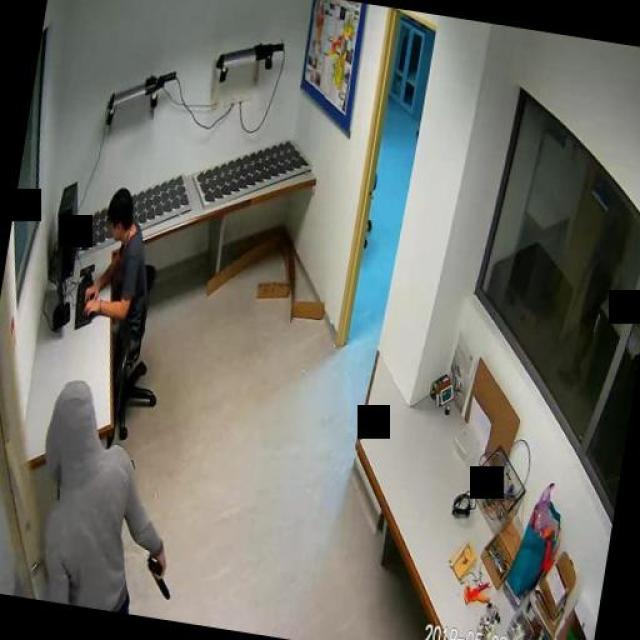gun: (140, 544, 178, 598)
